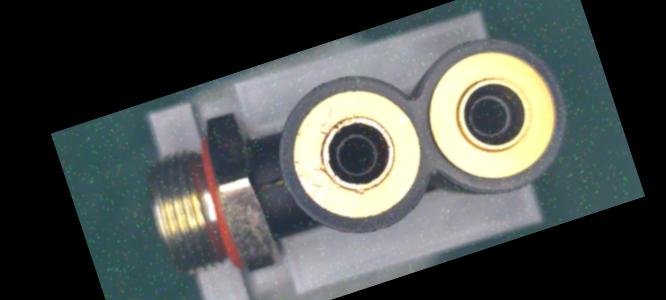craze: (255, 172, 286, 195)
